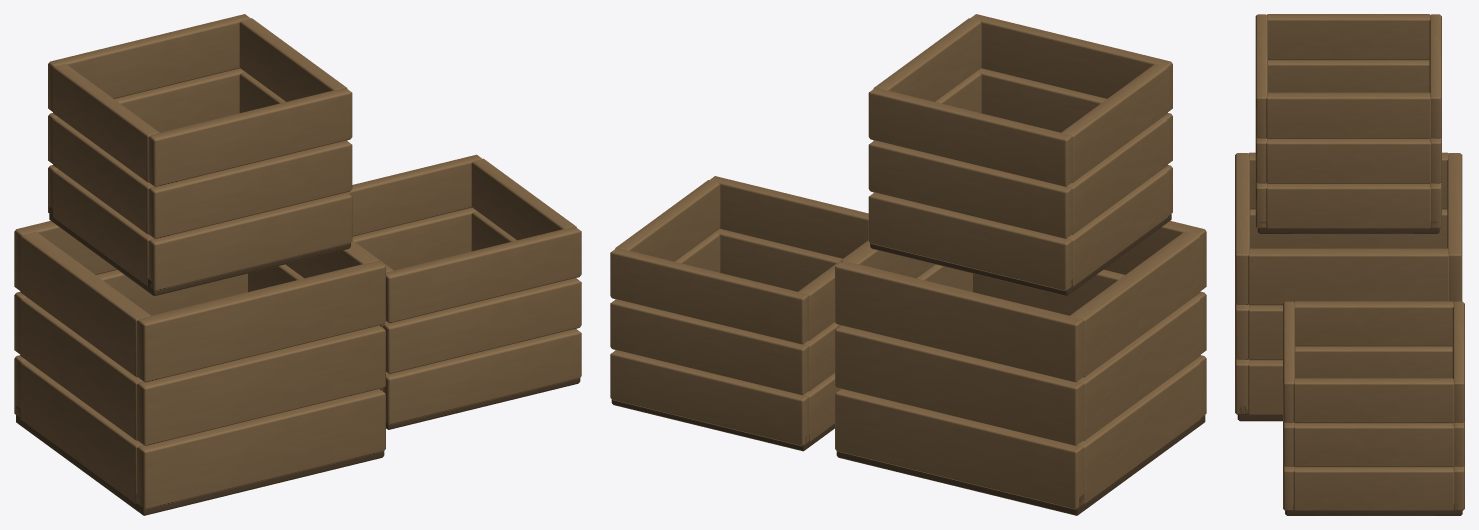
File: s08-kisten.glb
3 renders of one model, left to right at view 1: azimuth 30°, elevation 25°; view 2: azimuth 150°, elevation 25°; view 3: azimuth 270°, elevation 25°, orthographic. The views are drawn at different scales.
Visible parts, largest first — view 1: s08-kisten; view 2: s08-kisten; view 3: s08-kisten.
Boxes of the visible parts, x1=… form: s08-kisten: x1=14, y1=14, x2=581, y2=515; s08-kisten: x1=610, y1=14, x2=1206, y2=515; s08-kisten: x1=1235, y1=14, x2=1464, y2=515.
Size of the model in its own units: 0.9265 by 0.6902 by 0.455.
1 material, 1 textured.
